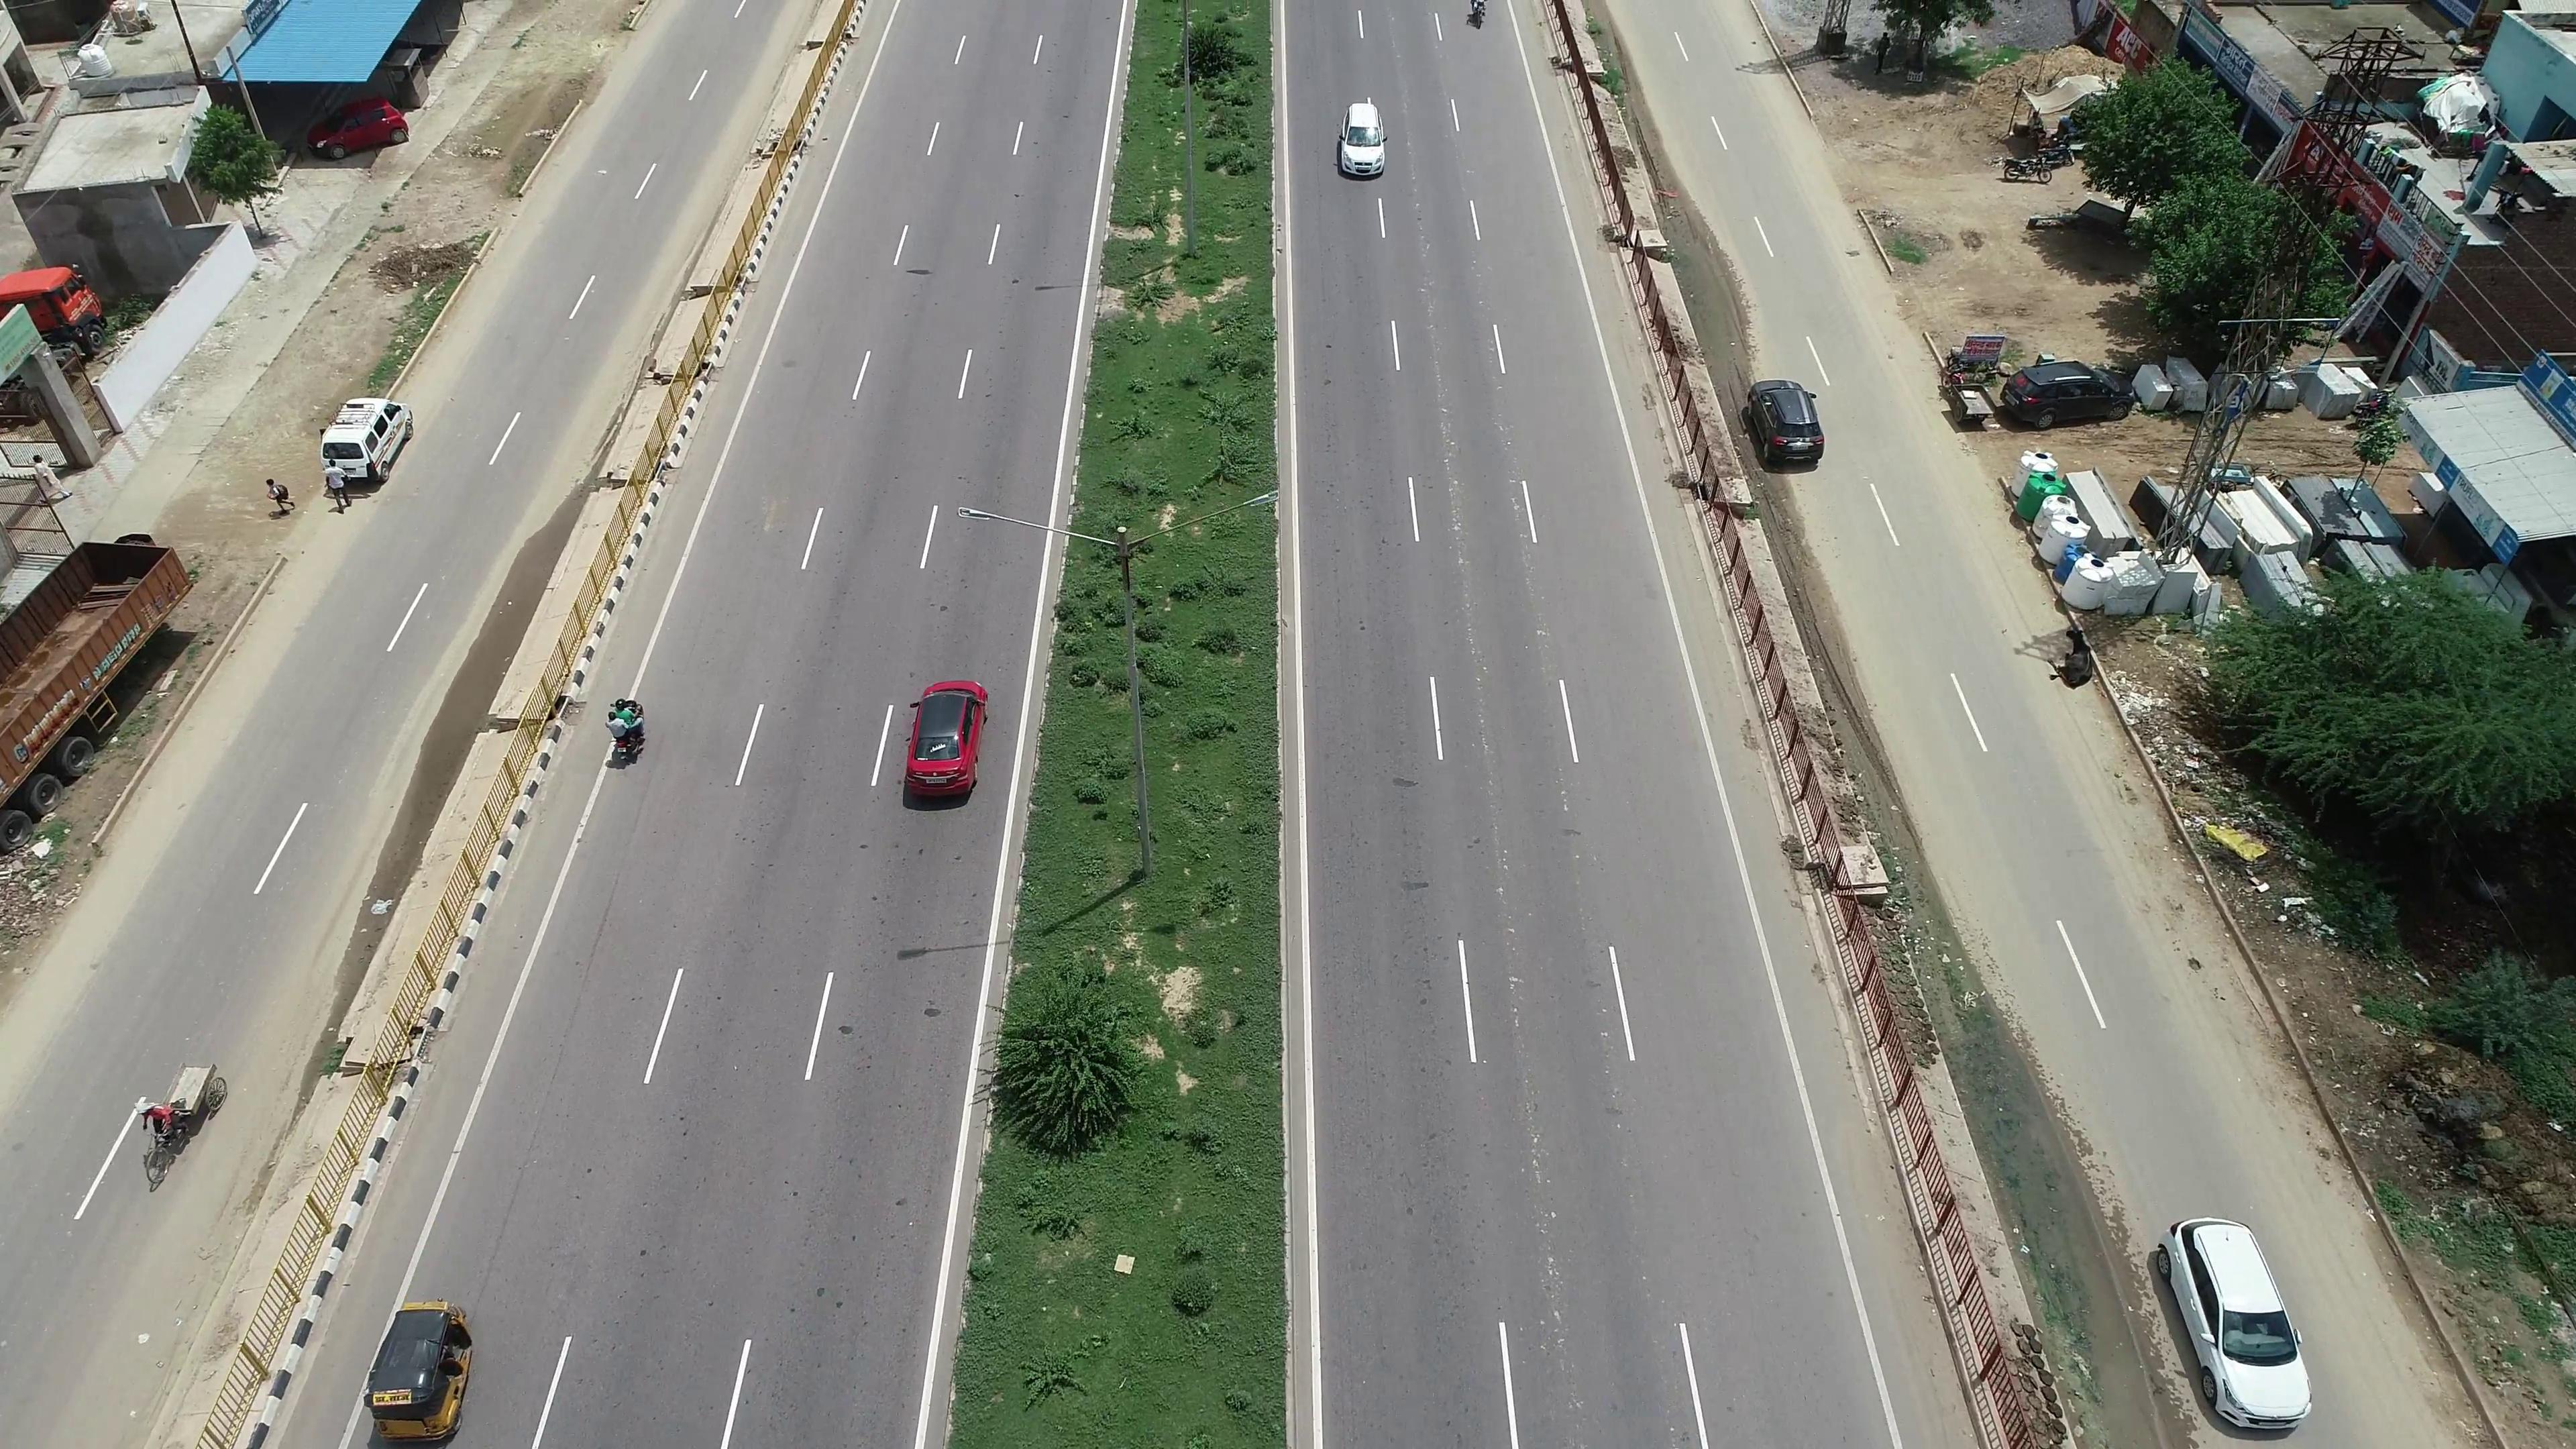Waterlogging: (402, 621, 515, 801)
